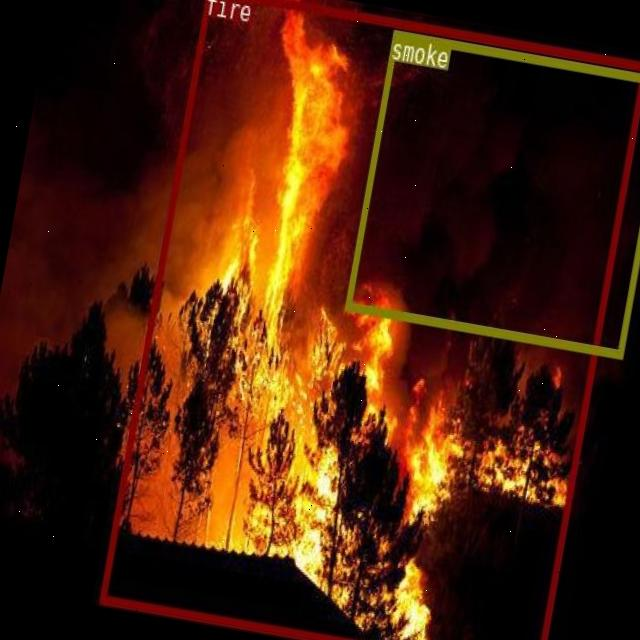fire: (99, 0, 640, 640)
smoke: (344, 29, 640, 355)
